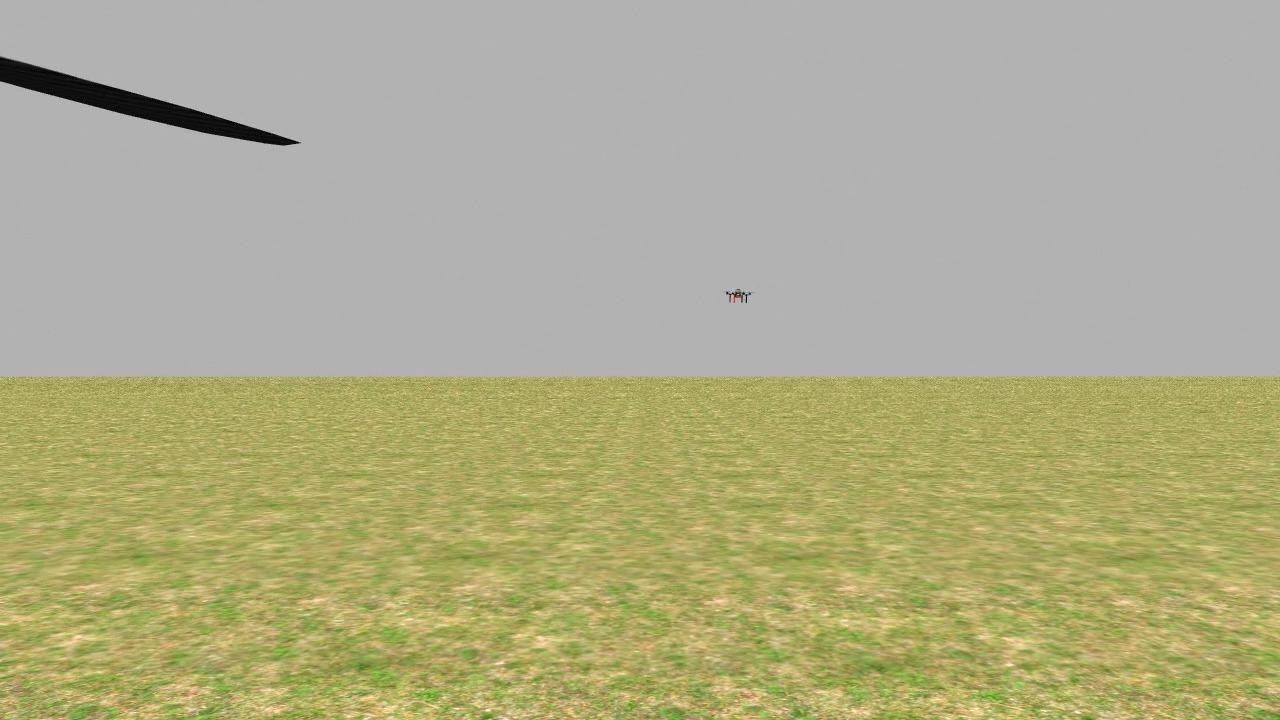UAV: (715, 273, 759, 311)
